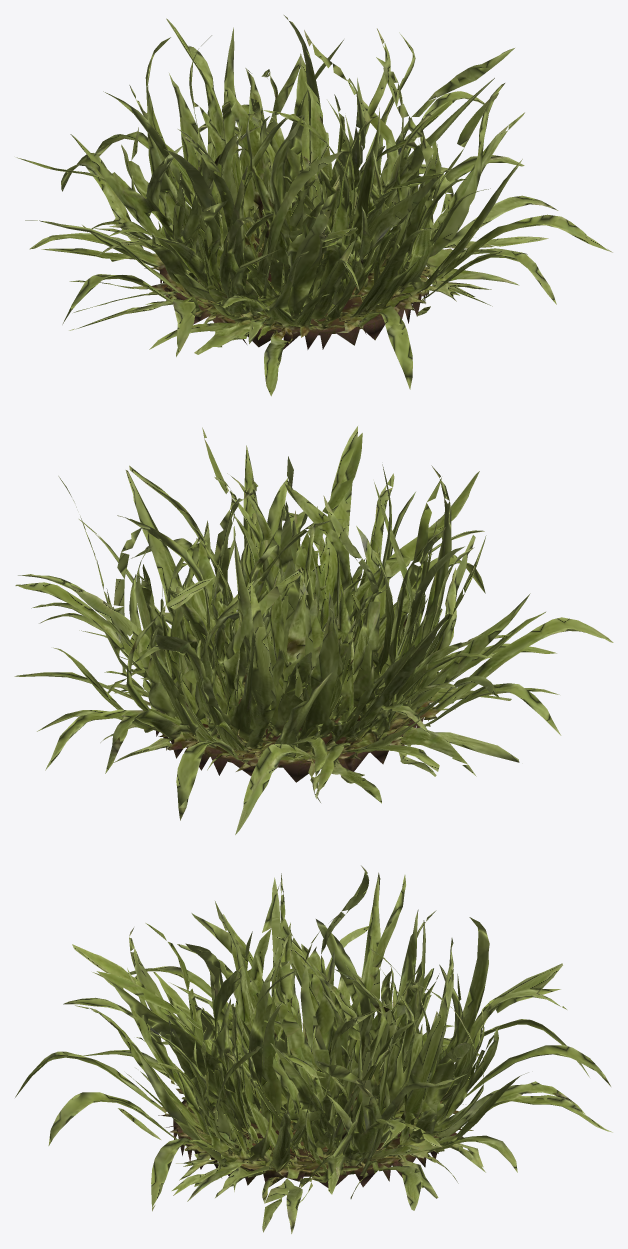
File: grass-short-a.glb
3 renders of one model, top to bottom at view 1: azimuth 30°, elevation 25°; view 2: azimuth 150°, elevation 25°; view 3: azimuth 270°, elevation 25°, orthographic. The views are drawn at different scales.
Parts seen in each view (by area): view 1: Mesh_0; view 2: Mesh_0; view 3: Mesh_0.
Part boxes in pixels (left/top/right/bottom): Mesh_0: left=16, top=15, right=612, bottom=396; Mesh_0: left=14, top=426, right=613, bottom=834; Mesh_0: left=15, top=865, right=612, bottom=1233.
Size of the model in its own units: 0.6231 by 0.3 by 0.6594.
1 material, 1 textured.
